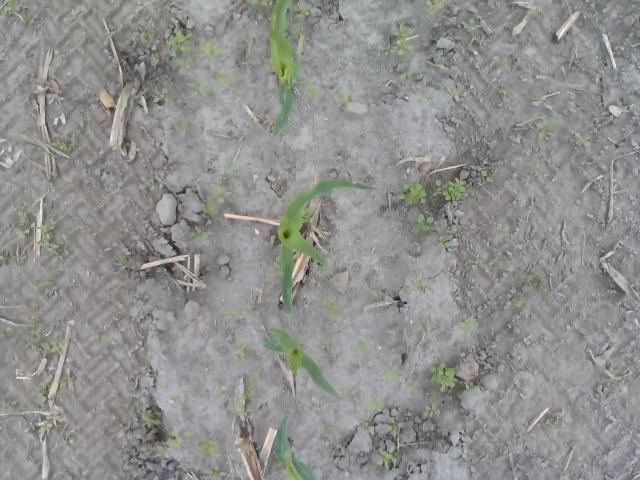Maize: (276, 177, 383, 309), (261, 326, 343, 402), (267, 0, 303, 139), (271, 411, 318, 480)
Weeds: (375, 19, 417, 58), (40, 218, 72, 265), (202, 174, 232, 218), (428, 360, 464, 395), (166, 30, 192, 72), (432, 176, 471, 203), (2, 0, 34, 30), (397, 180, 429, 208), (519, 269, 551, 296), (374, 445, 402, 471), (410, 212, 438, 238), (197, 38, 225, 64), (198, 430, 223, 458), (320, 295, 344, 321), (438, 224, 461, 251), (232, 336, 250, 370), (528, 116, 555, 138), (31, 337, 65, 354), (15, 208, 32, 242), (52, 134, 80, 154), (406, 277, 432, 298), (146, 80, 169, 103), (548, 406, 572, 428), (224, 304, 252, 322), (214, 70, 242, 88), (502, 298, 529, 316), (464, 255, 492, 272), (336, 90, 362, 107), (457, 316, 479, 336), (228, 400, 252, 418), (142, 407, 162, 428), (301, 77, 321, 98), (398, 62, 418, 82), (382, 366, 402, 385), (187, 78, 208, 96), (422, 400, 442, 418), (352, 334, 372, 352), (136, 174, 156, 192), (424, 0, 445, 17), (165, 430, 184, 448), (190, 224, 209, 242), (462, 15, 482, 32), (34, 378, 48, 402), (28, 319, 45, 337), (136, 22, 153, 40), (446, 82, 460, 103), (386, 419, 406, 433), (207, 466, 227, 480), (416, 319, 433, 335), (297, 0, 313, 17), (496, 81, 513, 97), (0, 248, 17, 264), (404, 380, 422, 395), (370, 286, 385, 304), (244, 0, 274, 9), (495, 260, 514, 274), (156, 441, 172, 457), (576, 131, 592, 147), (174, 118, 190, 134), (368, 396, 383, 412), (272, 253, 282, 276), (224, 160, 242, 172), (497, 222, 508, 241), (481, 168, 494, 184), (5, 405, 22, 417), (243, 386, 257, 400), (59, 375, 74, 388), (438, 312, 450, 328), (22, 422, 38, 434), (318, 338, 334, 350), (502, 55, 513, 72), (336, 384, 351, 396), (608, 366, 620, 380), (576, 456, 589, 468), (117, 255, 130, 267), (148, 51, 160, 64), (37, 280, 53, 289), (433, 341, 446, 352), (256, 54, 270, 64), (328, 424, 342, 434), (88, 334, 104, 342), (578, 160, 593, 168), (486, 296, 498, 306), (249, 376, 261, 386), (104, 30, 116, 40), (66, 14, 80, 22), (78, 120, 86, 134), (22, 90, 31, 102), (143, 474, 160, 480), (464, 379, 474, 389), (536, 159, 547, 168), (273, 351, 284, 360), (292, 28, 300, 40), (42, 201, 54, 209), (222, 419, 232, 428), (216, 392, 226, 401), (607, 287, 617, 296), (78, 472, 89, 480), (156, 266, 168, 273), (183, 463, 192, 472), (423, 95, 432, 104), (632, 278, 640, 288), (582, 14, 592, 22), (136, 312, 145, 320), (362, 421, 368, 432), (184, 431, 192, 439), (120, 448, 128, 456), (128, 223, 136, 231), (352, 400, 361, 407), (0, 328, 6, 337)
